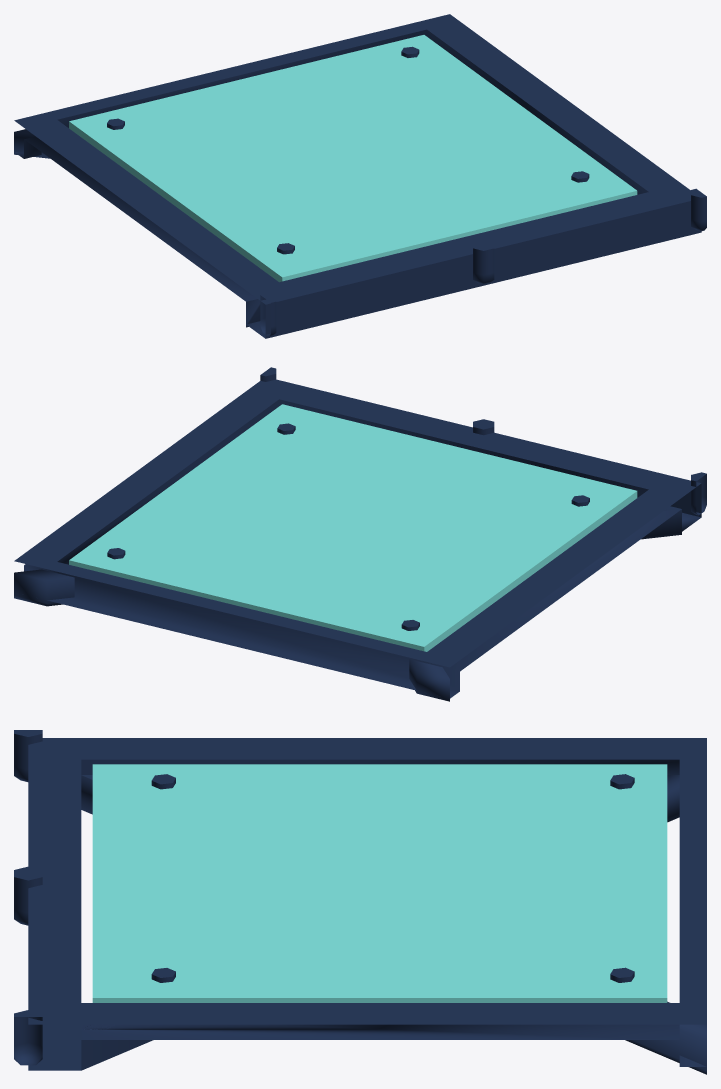
Rendered from Bridge Module B.fbx.
3 views of the same model, one above another, from view 1: azimuth 30°, elevation 25°; view 2: azimuth 150°, elevation 25°; view 3: azimuth 270°, elevation 25° (orthographic). The views are drawn at different scales.
Parts seen in each view (by area): view 1: Cube.007; view 2: Cube.007; view 3: Cube.007.
Part boxes in pixels (bbox=[...]): Cube.007: bbox=[14, 14, 706, 338]; Cube.007: bbox=[14, 367, 706, 701]; Cube.007: bbox=[14, 730, 706, 1074].
Size of the model in its own units: 2 by 0.1882 by 2.04.
